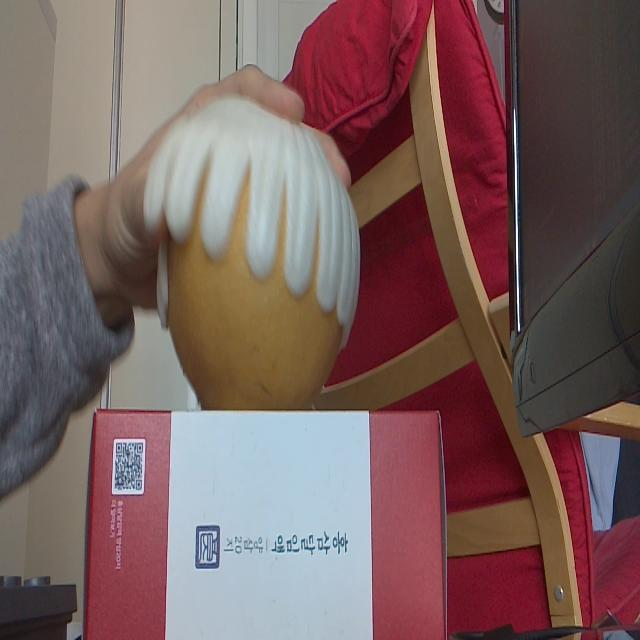pear: (158, 98, 360, 406)
